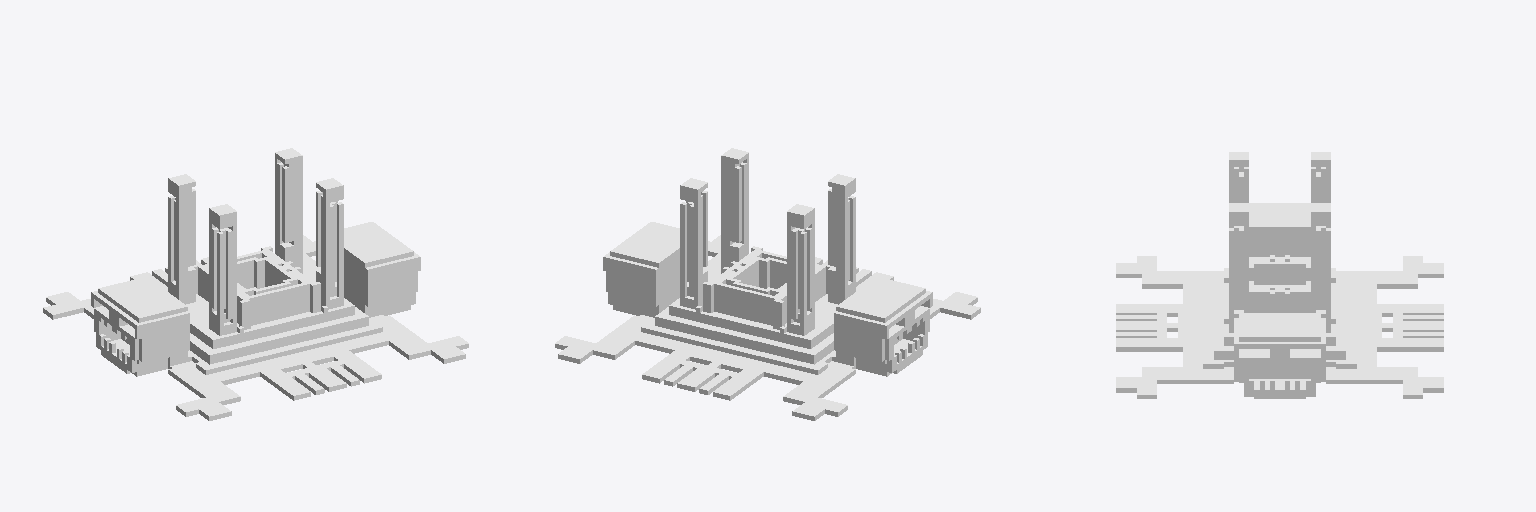
Rendered from altarVox2.obj.
The picture shows the model from 3 angles: view 1: azimuth 30°, elevation 25°; view 2: azimuth 150°, elevation 25°; view 3: azimuth 270°, elevation 25°; orthographic projection.
Bounding box in the file's own units: 64 × 32 × 64.